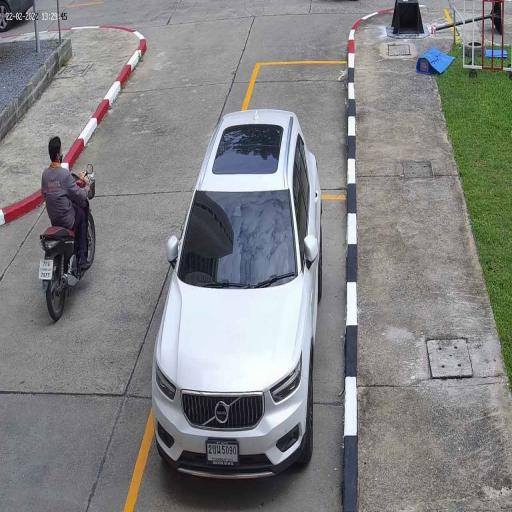car: (151, 109, 323, 481)
motorcycle: (38, 174, 96, 322)
